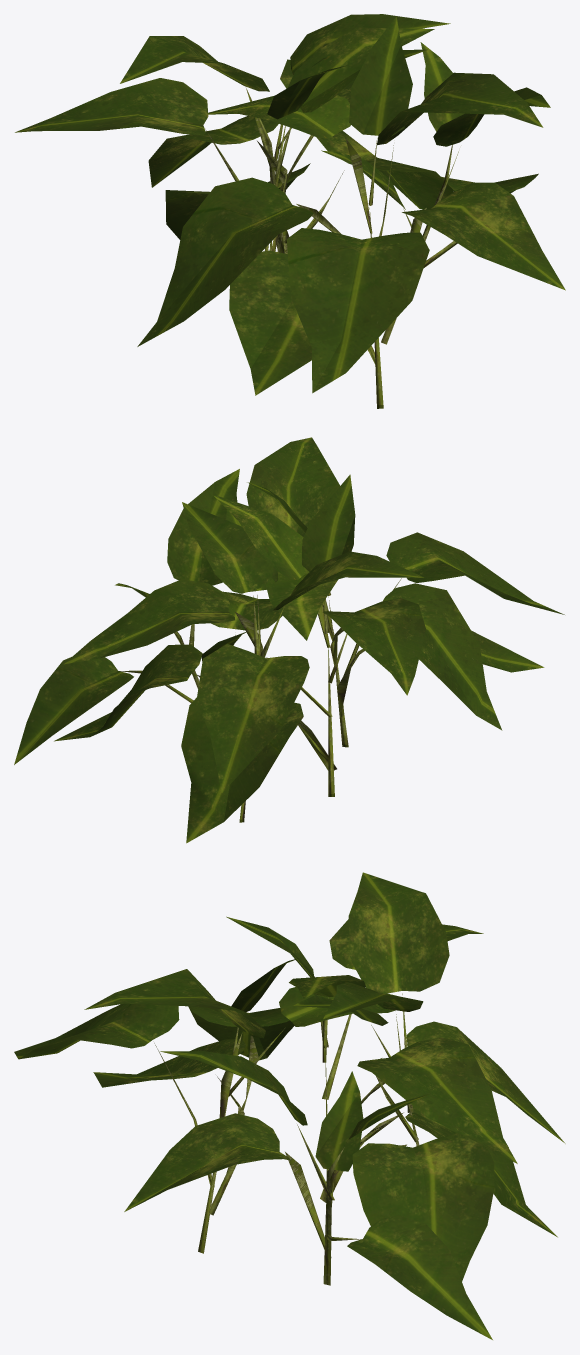
File: cargo_natural_plant_far.glb
The picture shows the model from 3 angles, top to bottom: view 1: azimuth 30°, elevation 25°; view 2: azimuth 150°, elevation 25°; view 3: azimuth 270°, elevation 25°; orthographic projection. The views are drawn at different scales.
Parts seen in each view (by area): view 1: KB3D_ENC_PropPlant_A; view 2: KB3D_ENC_PropPlant_A; view 3: KB3D_ENC_PropPlant_A.
Boxes of the visible parts, x1=… form: KB3D_ENC_PropPlant_A: x1=15, y1=14, x2=565, y2=408; KB3D_ENC_PropPlant_A: x1=14, y1=437, x2=564, y2=843; KB3D_ENC_PropPlant_A: x1=14, y1=872, x2=565, y2=1339.
Size of the model in its own units: 1.06 by 0.719 by 1.1.
1 material, 1 textured.
